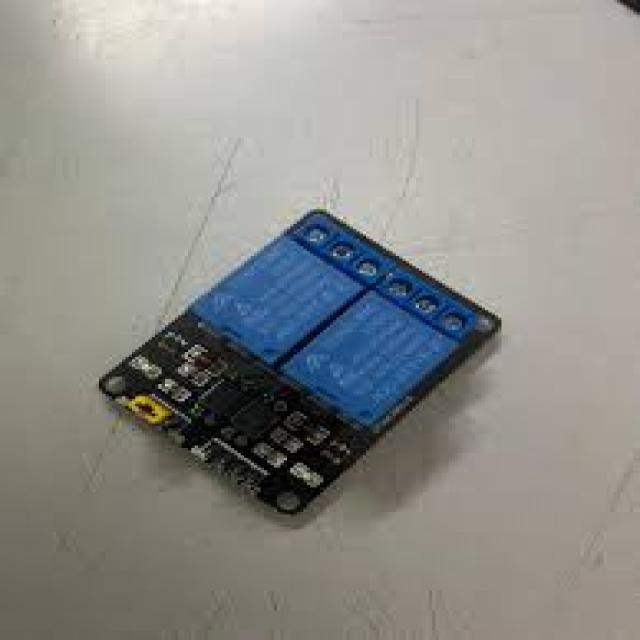Relay: (290, 215, 480, 342), (194, 230, 366, 363), (286, 290, 457, 420), (292, 221, 388, 287)
